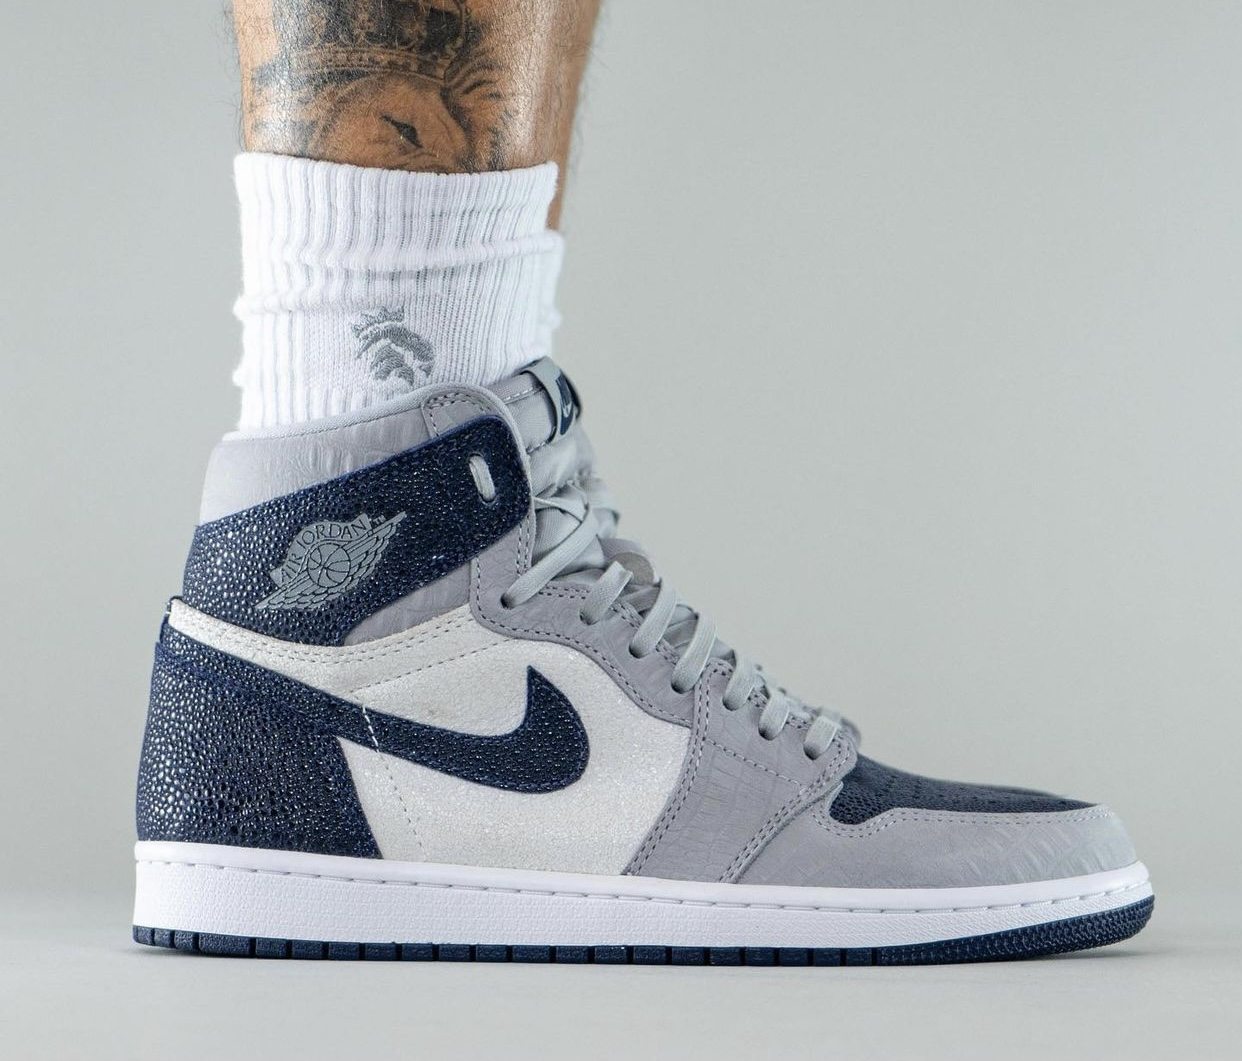Jordan 1: (116, 343, 1162, 988)
